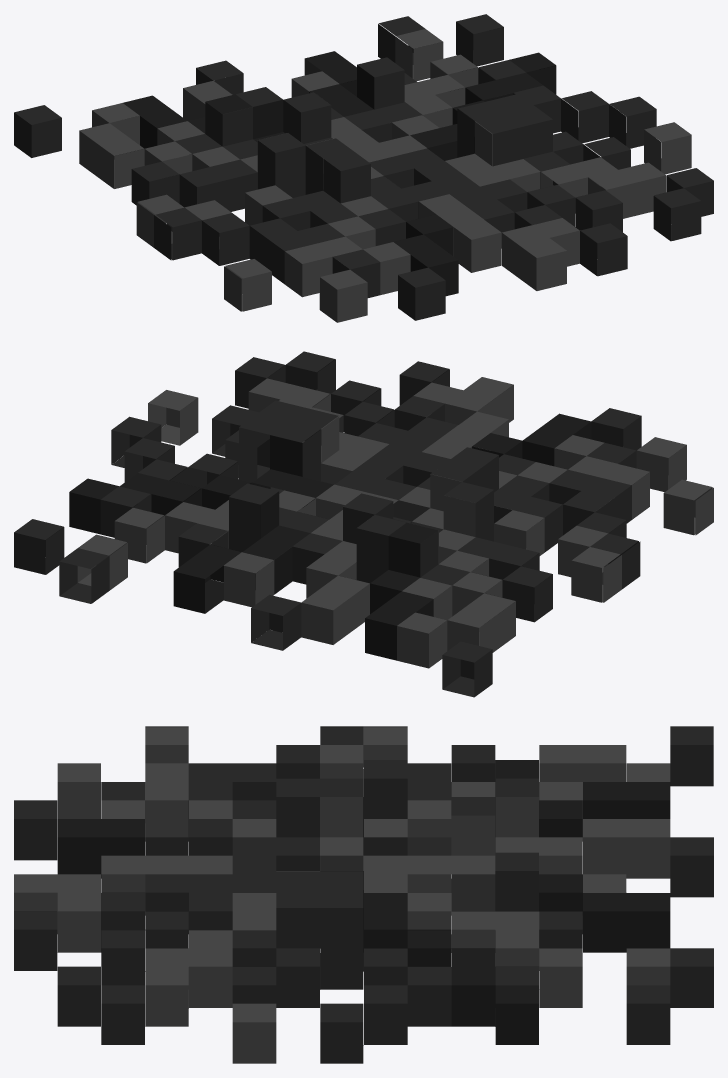
File: scorchmark_6.gltf
3 renders of one model, top to bottom at view 1: azimuth 30°, elevation 25°; view 2: azimuth 150°, elevation 25°; view 3: azimuth 270°, elevation 25°, orthographic. The views are drawn at different scales.
Parts seen in each view (by area): view 1: scorchmark_6; view 2: scorchmark_6; view 3: scorchmark_6.
Part boxes in pixels (x1=…): scorchmark_6: x1=14, y1=14, x2=713, y2=322; scorchmark_6: x1=14, y1=351, x2=713, y2=697; scorchmark_6: x1=14, y1=726, x2=713, y2=1063.
Bounding box in the file's own units: 1.52 × 0.1961 × 1.52.
1 material, 1 textured.
